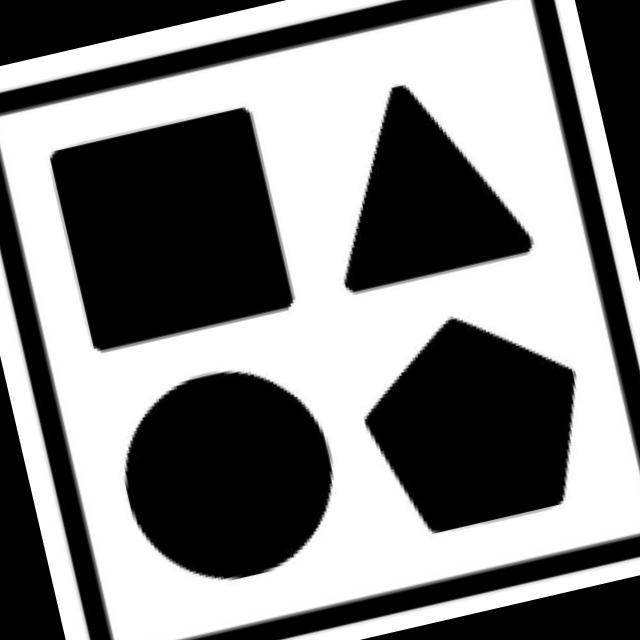circle: (100, 370, 354, 582)
square: (16, 92, 332, 354)
triangle: (323, 69, 547, 308)
